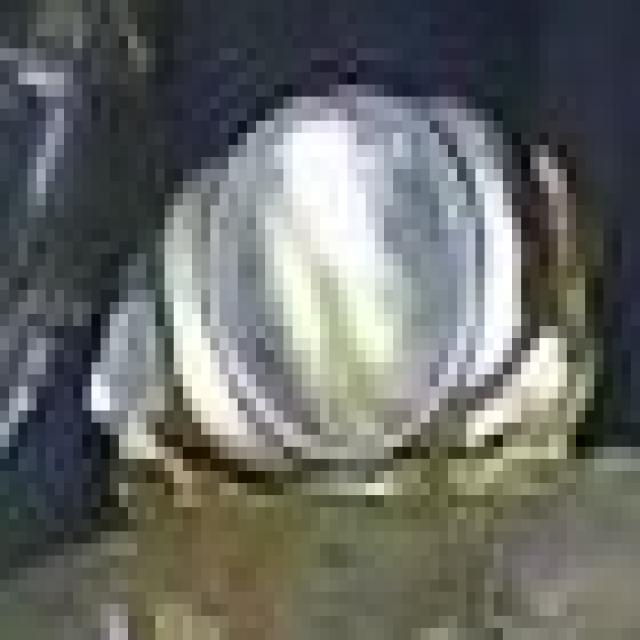can: (81, 36, 639, 610)
